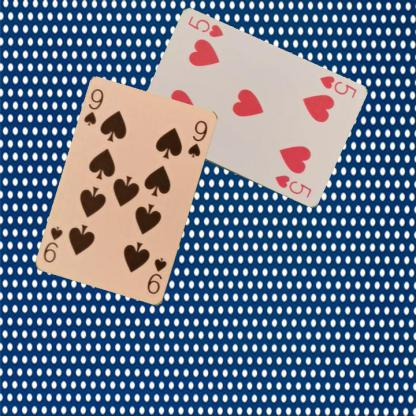5h: (316, 73, 358, 100)
9s: (82, 86, 105, 128), (145, 255, 168, 296)
